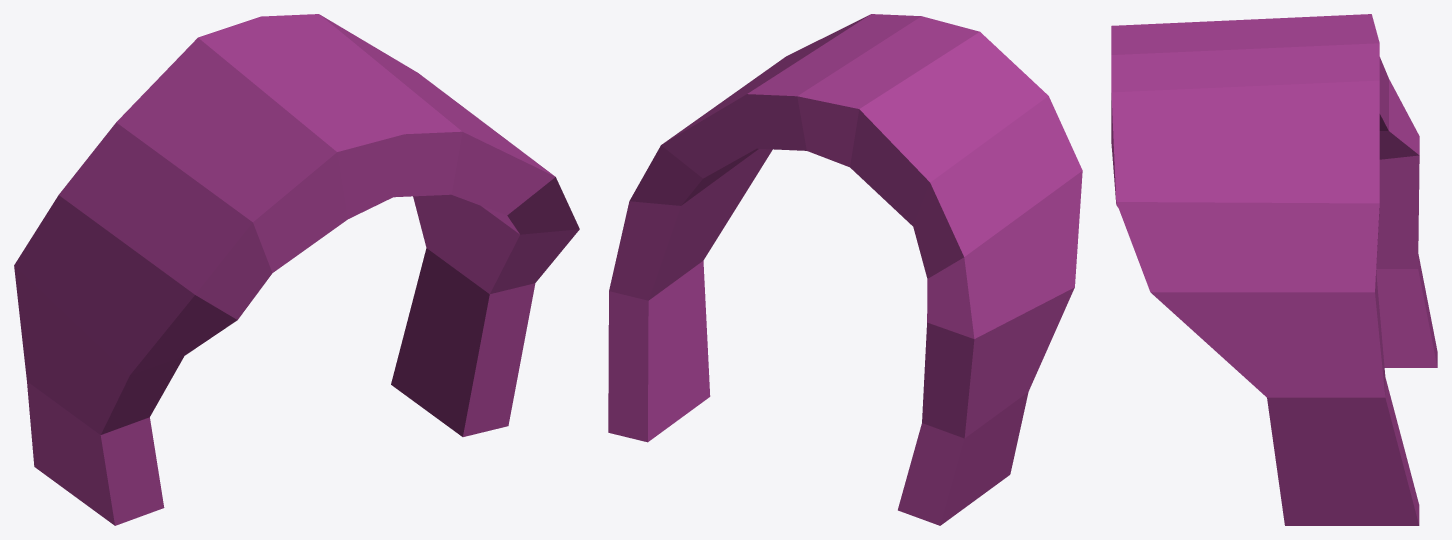
File: SM_Prop_Archway_01_Collision.fbx
The picture shows the model from 3 angles, left to right: view 1: azimuth 30°, elevation 25°; view 2: azimuth 150°, elevation 25°; view 3: azimuth 270°, elevation 25°; orthographic projection. The views are drawn at different scales.
Visible parts, largest first — view 1: SM_Prop_Archway_01_Collision; view 2: SM_Prop_Archway_01_Collision; view 3: SM_Prop_Archway_01_Collision.
Part boxes in pixels (x1=…): SM_Prop_Archway_01_Collision: x1=14, y1=14, x2=579, y2=525; SM_Prop_Archway_01_Collision: x1=608, y1=14, x2=1082, y2=525; SM_Prop_Archway_01_Collision: x1=1111, y1=14, x2=1437, y2=525.
Size of the model in its own units: 378 by 349 by 259.
